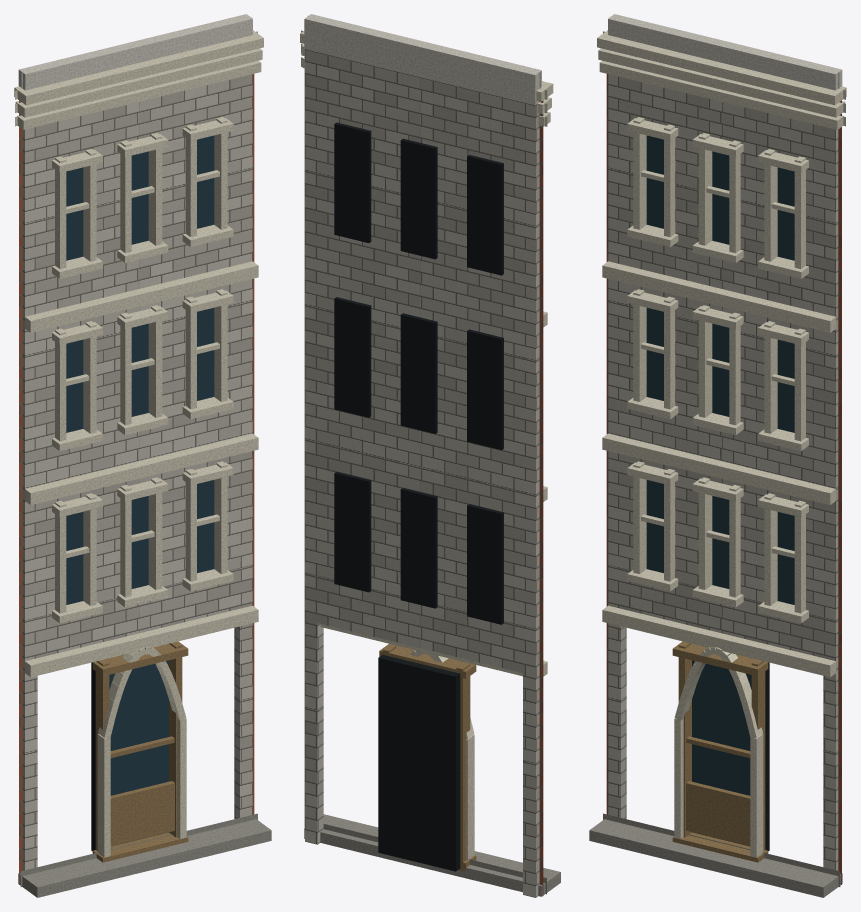
The model's file is OFFC21_lod2.glb.
The picture shows the model from 3 angles, left to right: view 1: azimuth 30°, elevation 25°; view 2: azimuth 150°, elevation 25°; view 3: azimuth 330°, elevation 25°; orthographic projection.
Visible parts, largest first — view 1: OFFC21_FRONT_LOD2; view 2: OFFC21_FRONT_LOD2; view 3: OFFC21_FRONT_LOD2.
Boxes of the visible parts, <box> form: OFFC21_FRONT_LOD2: <box>14,14,271,897</box>; OFFC21_FRONT_LOD2: <box>300,14,560,897</box>; OFFC21_FRONT_LOD2: <box>589,14,846,897</box>.
Size of the model in its own units: 3.84 by 12.26 by 0.68.
9 materials, 7 textured.
